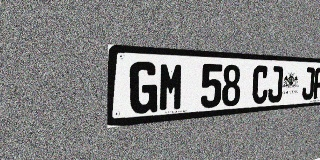5: (201, 64, 223, 109)
8: (221, 64, 241, 107)
C: (252, 65, 269, 104)
F: (313, 67, 320, 99)
G: (129, 61, 158, 115)
J: (267, 66, 283, 103), (302, 67, 315, 100)
M: (158, 62, 184, 112)
